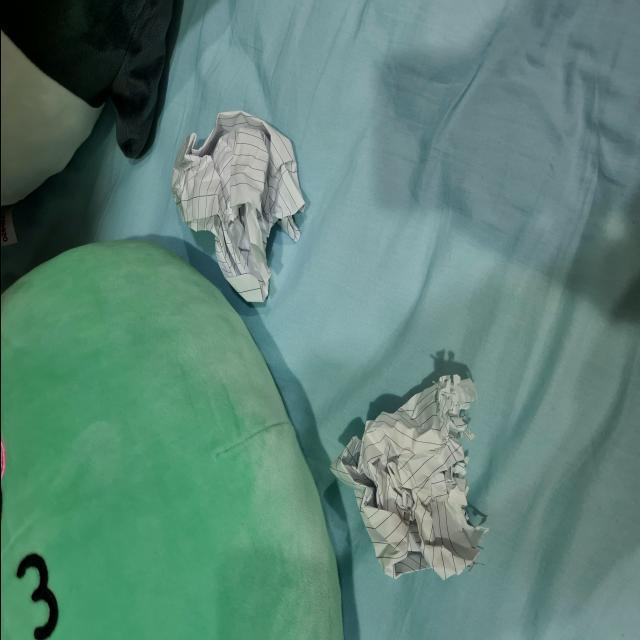Paper: (313, 345, 510, 594), (146, 90, 329, 316)
